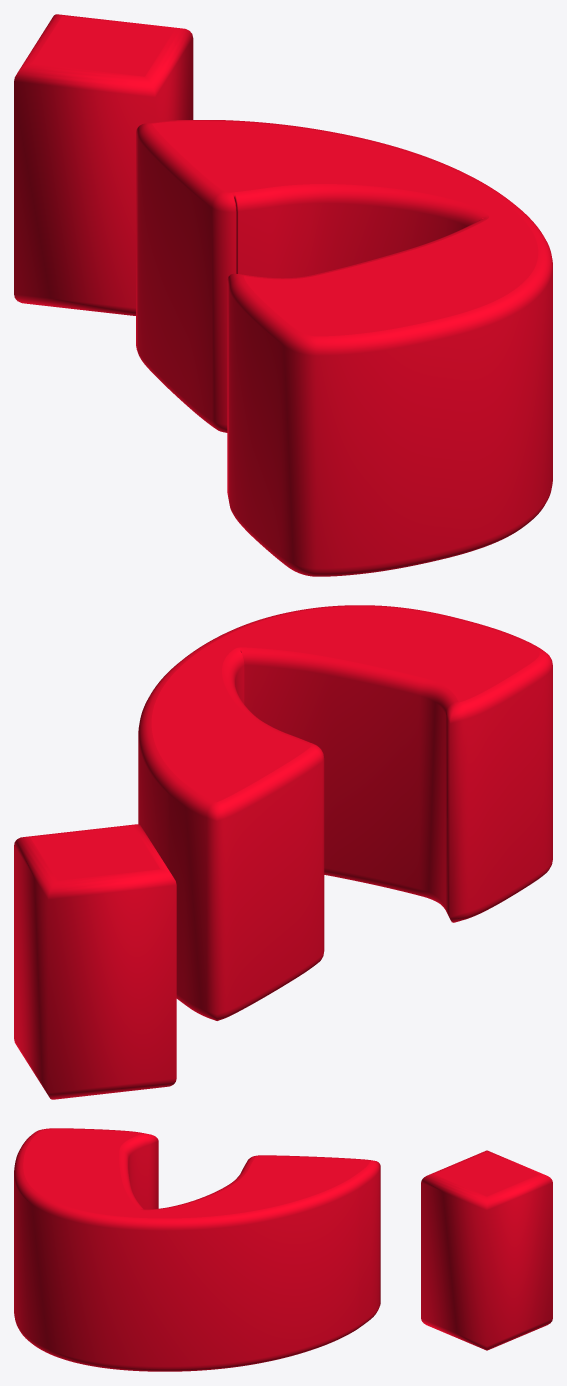
The model's file is 9 dzal 1.fbx.
The picture shows the model from 3 angles, top to bottom: view 1: azimuth 30°, elevation 25°; view 2: azimuth 150°, elevation 25°; view 3: azimuth 270°, elevation 25°; orthographic projection. The views are drawn at different scales.
Visible parts, largest first — view 1: Text.139; view 2: Text.139; view 3: Text.139.
Boxes of the visible parts, x1,y1,x2,y2 form: Text.139: (14, 14, 552, 576); Text.139: (14, 605, 552, 1099); Text.139: (14, 1128, 552, 1371).
Size of the model in its own units: 24.62 by 18 by 57.65.
